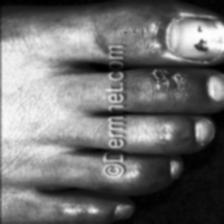Unclassified: (188, 24, 211, 56), (149, 66, 182, 88)
